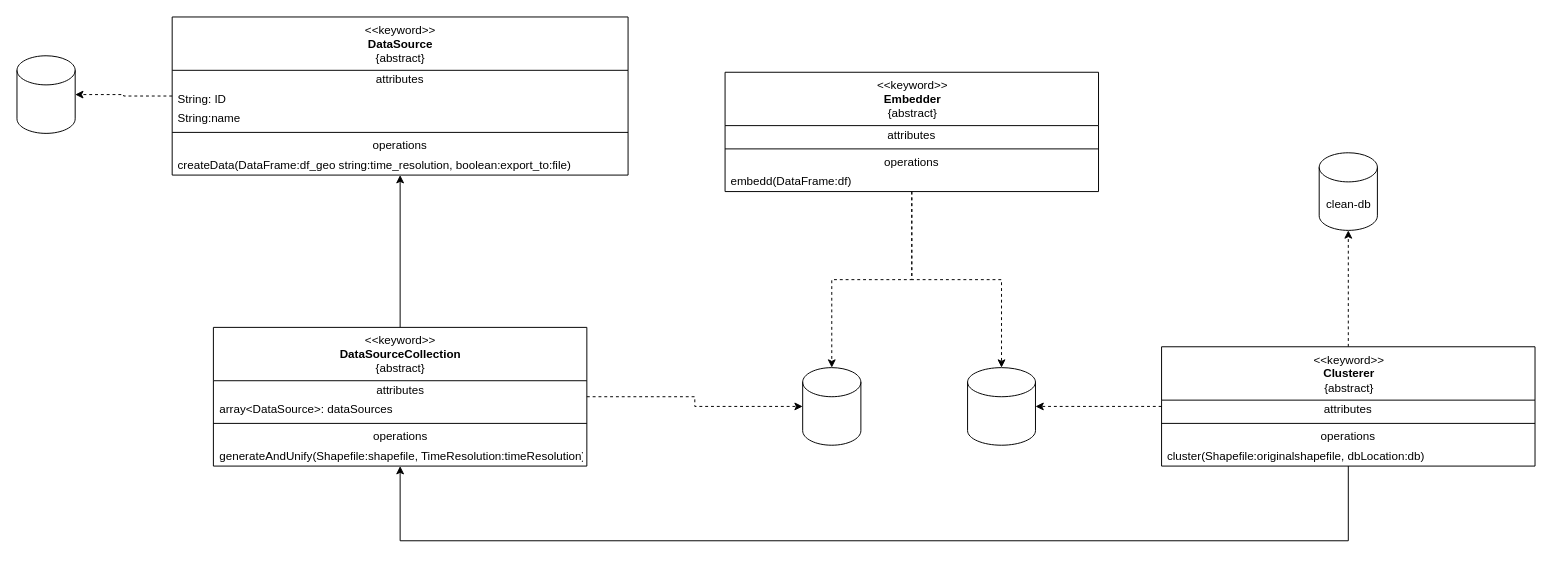
The diagram is 1552 pixels wide and 566 high, and some of its shapes have lost their labels. The centre of each missing label's shape, as x and y in pixels:
"embbeded-db" goes at point 1001,406.
"raw-db" goes at point 45,94.
"unified-raw-db" goes at point 831,406.
